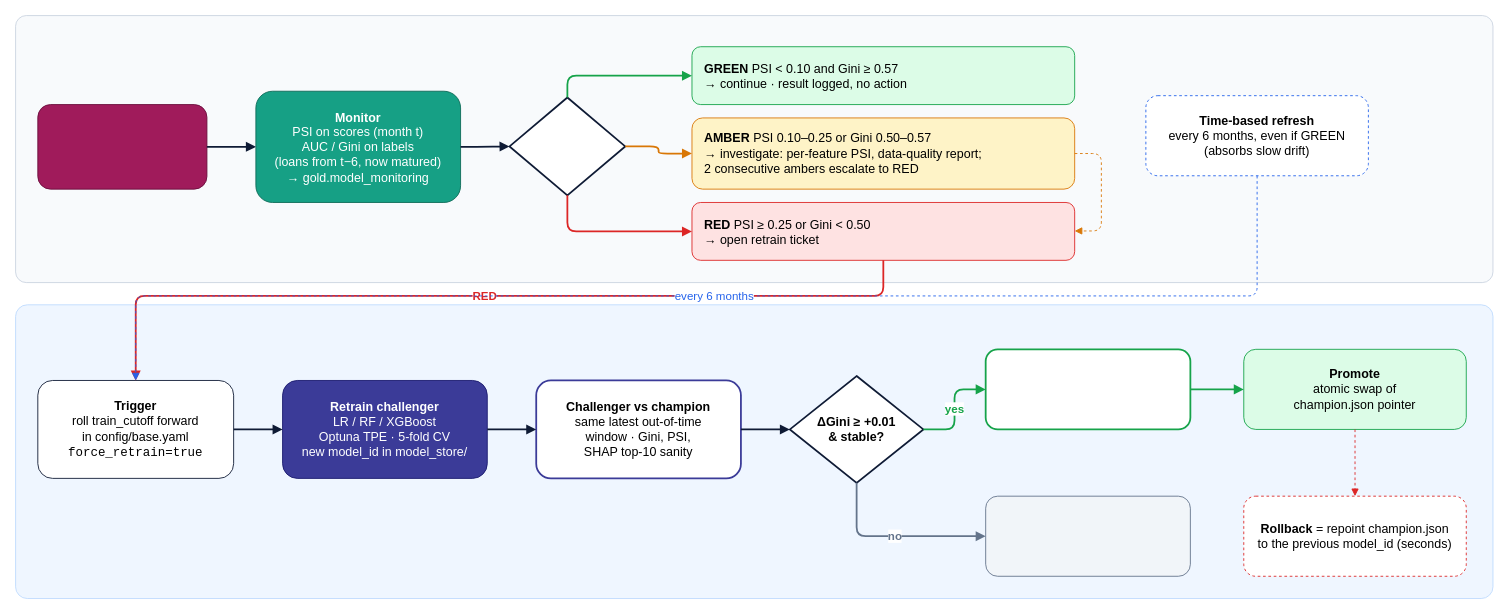
Some shapes in this 1509 by 614 pixel diagram are drawn without their labels. Here are the shapes that lost their labels. From the top down, the box of each, then its label:
(37, 104, 207, 189): Score month t champion.json → batch → gold.predictions
(508, 96, 626, 196): Traffic light
(15, 15, 1493, 283): MONTHLY · automated by Airflow
(984, 348, 1191, 430): Model-risk sign-off metadata.json + SHAP summary as evidence
(15, 304, 1493, 599): RETRAIN & RELEASE · human-in-the-loop
(985, 495, 1190, 576): Keep champion challenger archived with its metrics for audit
